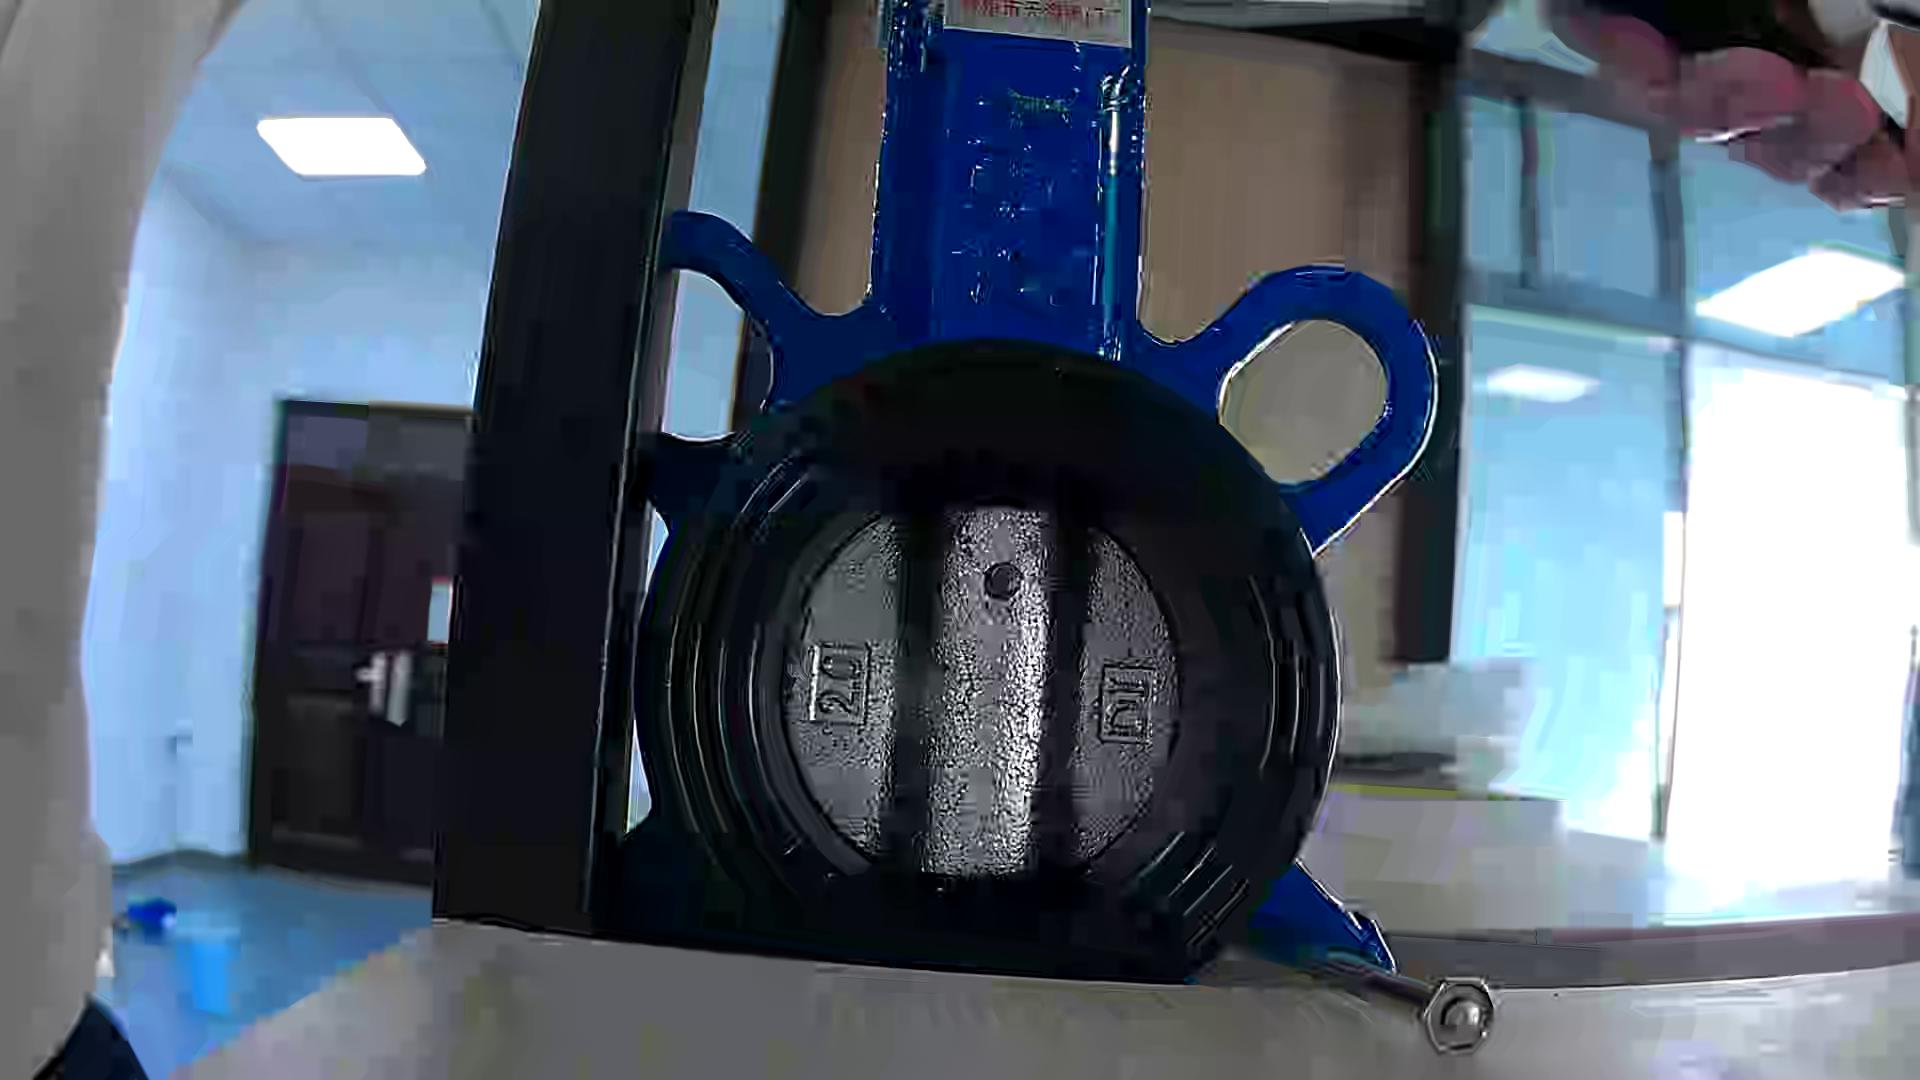valve: (783, 506, 1180, 877)
